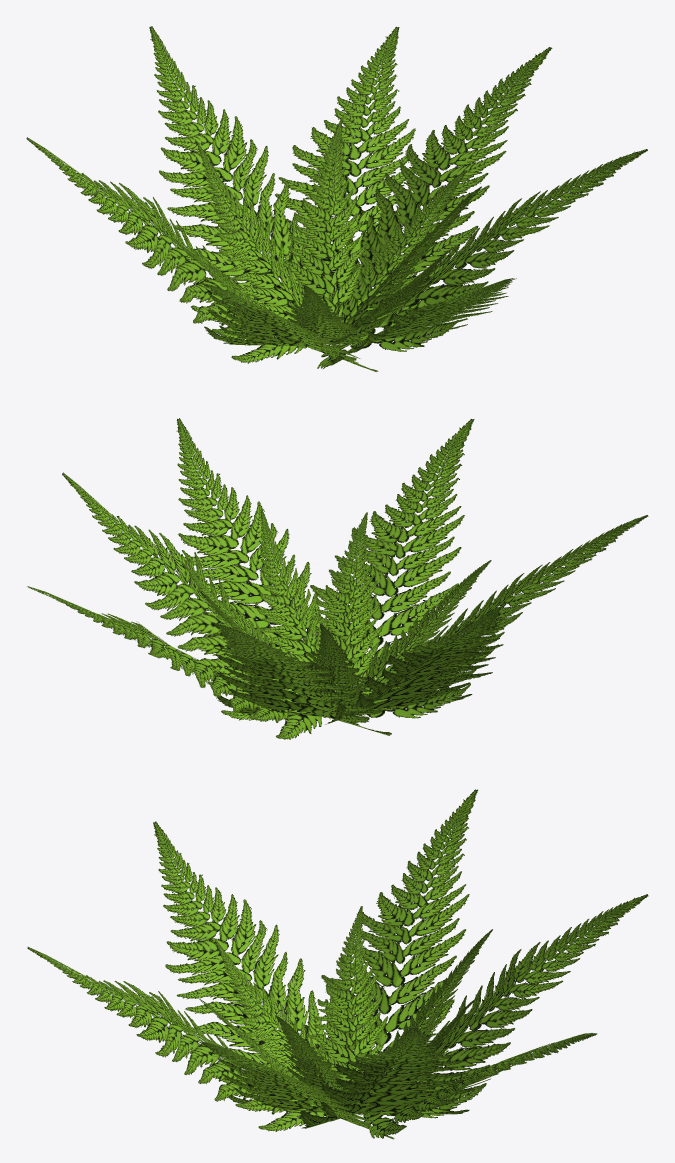
Rendered from LargeBushShape.dae.
3 views of the same model, one above another, from view 1: azimuth 30°, elevation 25°; view 2: azimuth 150°, elevation 25°; view 3: azimuth 270°, elevation 25° (orthographic). The views are drawn at different scales.
Parts seen in each view (by area): view 1: LargeBush; view 2: LargeBush; view 3: LargeBush.
Part boxes in pixels (x1,y1,x2,y2): LargeBush: [26, 26, 647, 371]; LargeBush: [27, 418, 648, 739]; LargeBush: [27, 789, 648, 1139].
Size of the model in its own units: 13.03 by 5.55 by 14.64.
